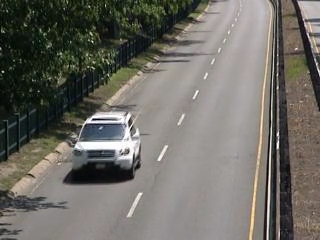car: (67, 109, 153, 180)
